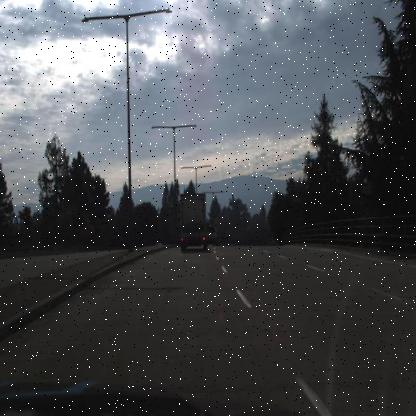car: (205, 224, 217, 244)
truck: (179, 190, 206, 252)
